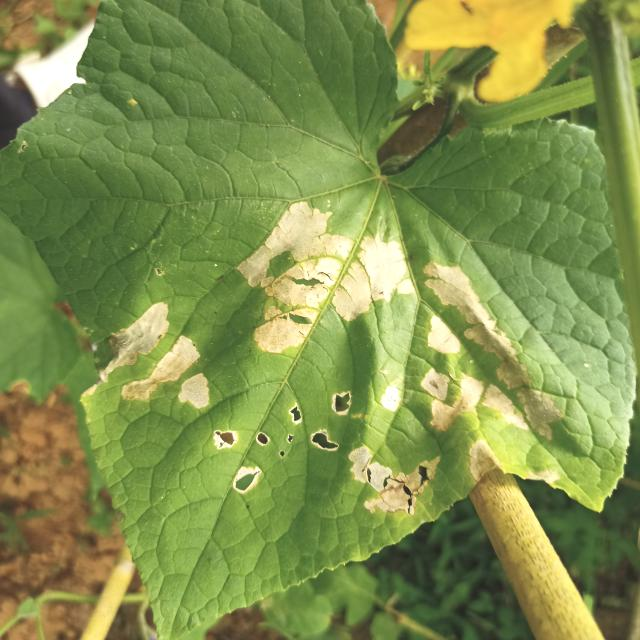disease_cucumber: (83, 202, 561, 513)
